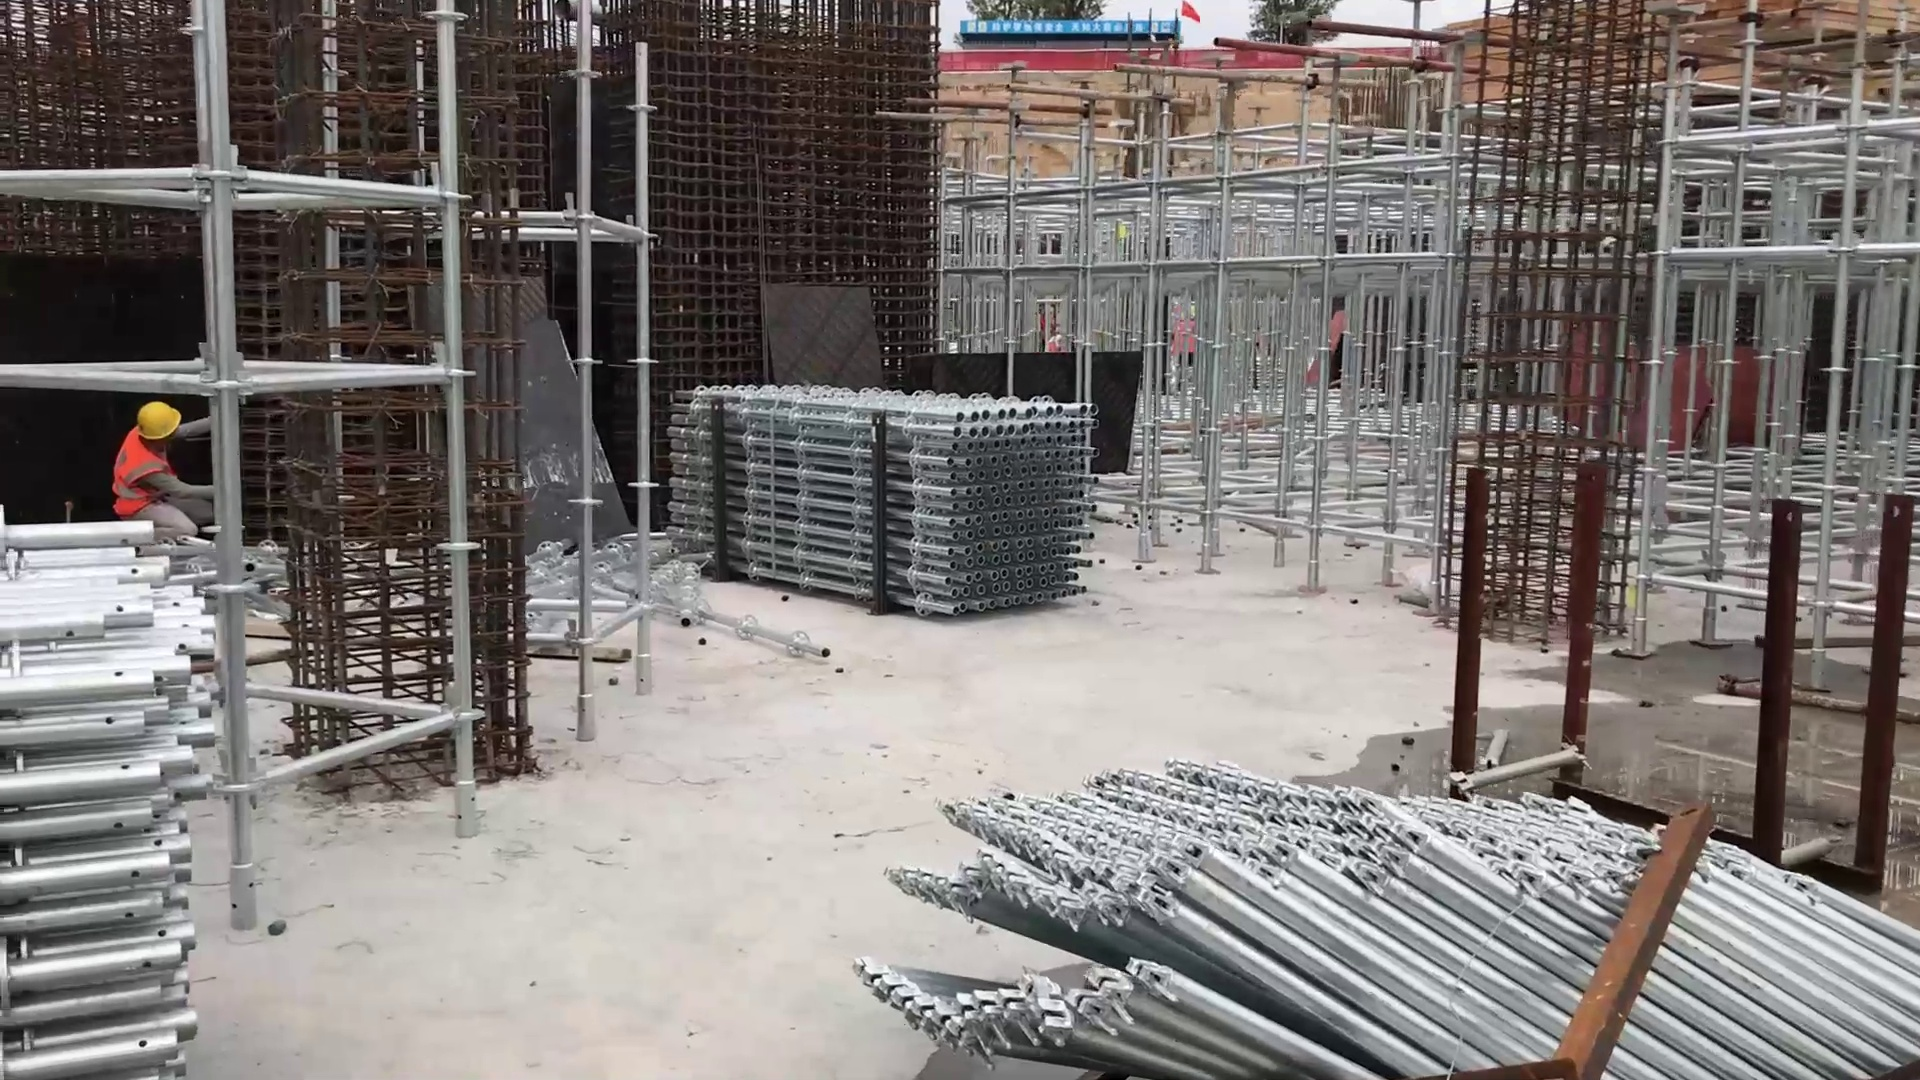helmet: (135, 401, 183, 441)
person: (92, 398, 234, 539)
scaffold: (851, 748, 1918, 1080), (6, 515, 252, 1080), (660, 371, 1104, 629)
slogan: (960, 16, 1186, 42)
vest: (104, 445, 180, 515)
